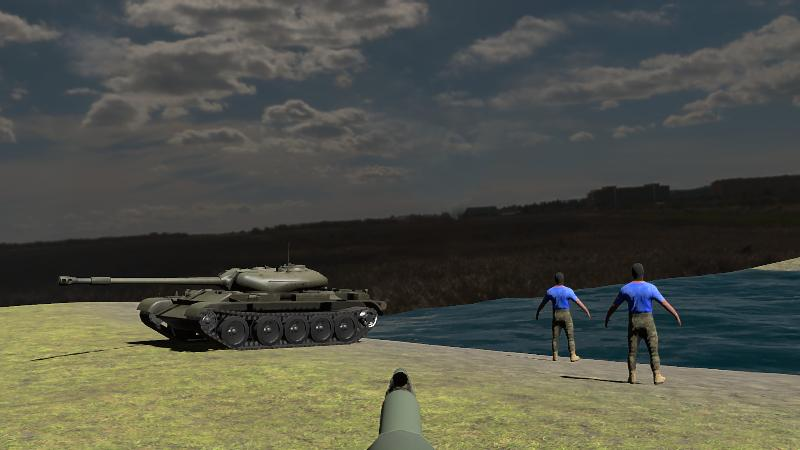Human: (604, 261, 681, 386), (536, 271, 590, 363)
Tank: (60, 262, 387, 352)
